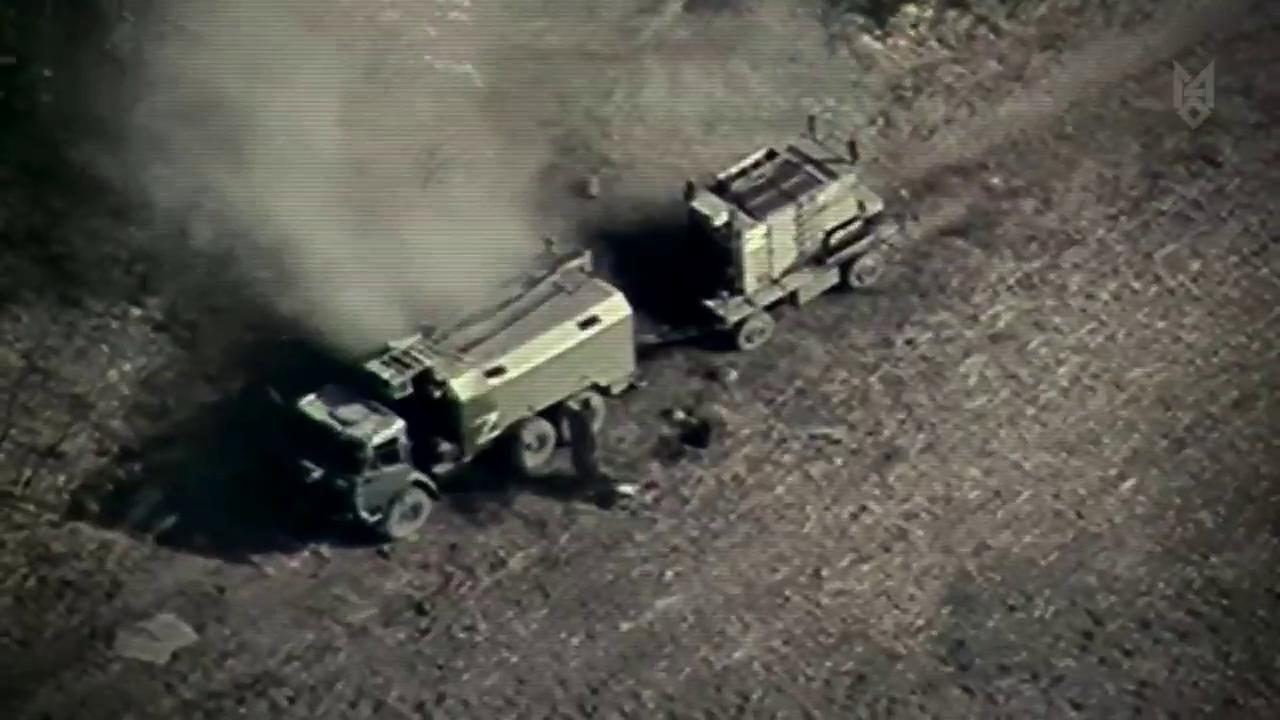tank: (271, 247, 656, 540), (676, 115, 910, 352)
